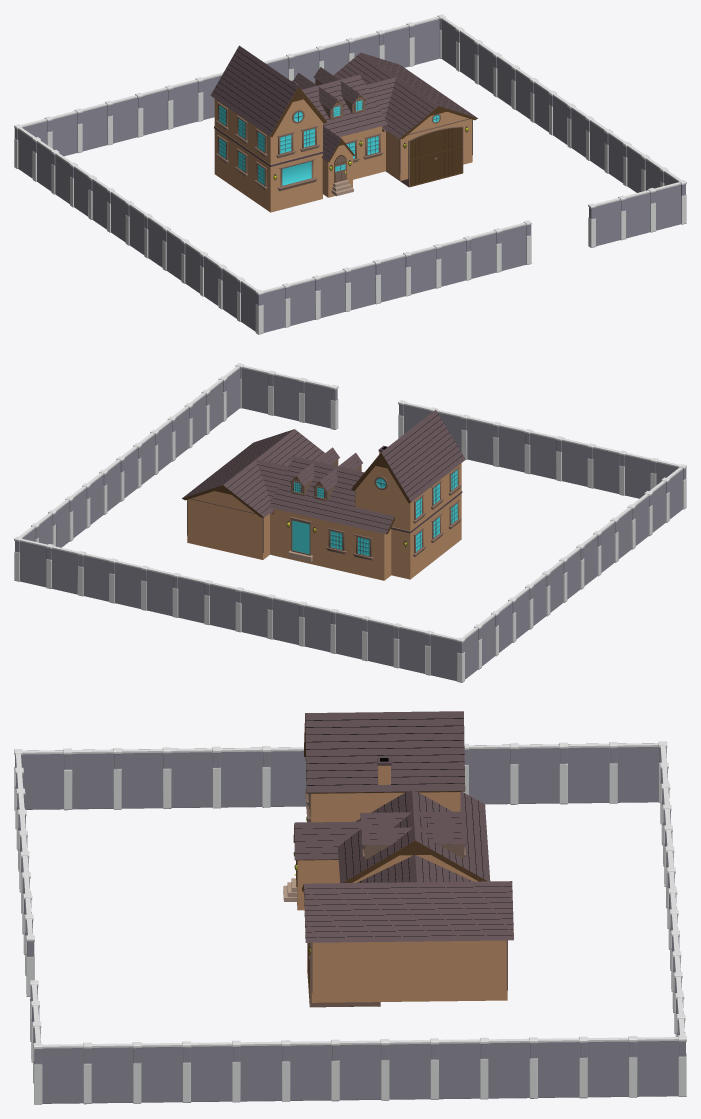
File: tokenshouse_compressed.glb
3 renders of one model, top to bottom at view 1: azimuth 30°, elevation 25°; view 2: azimuth 150°, elevation 25°; view 3: azimuth 270°, elevation 25°, orthographic. The views are drawn at different scales.
Parts seen in each view (by area): view 1: Cube.569, Cube.544, Cube.546, Cylinder.128; view 2: Cube.569, Cube.544, Cube.546, Cylinder.128; view 3: Cube.569, Cube.544, Cube.546.
Part boxes in pixels (x1,y1,x2,y2): Cube.569: [14, 14, 686, 334]; Cube.544: [210, 45, 477, 212]; Cube.546: [215, 79, 472, 190]; Cylinder.128: [219, 100, 439, 185]; Cube.569: [14, 363, 686, 682]; Cube.544: [182, 409, 465, 580]; Cube.546: [187, 459, 461, 560]; Cylinder.128: [292, 470, 457, 555]; Cube.569: [14, 741, 686, 1104]; Cube.544: [293, 711, 513, 1007]; Cube.546: [296, 755, 507, 1007].
Bounding box in the file's own units: 10.94 × 3.22 × 10.19.
